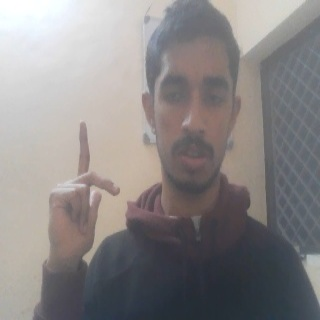Face: (139, 5, 244, 195)
Okay: (42, 118, 121, 261)
